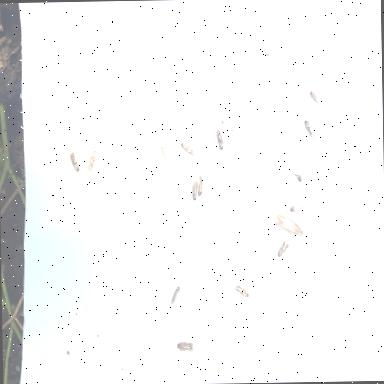pbw: (234, 282, 254, 303), (158, 146, 176, 164), (195, 169, 206, 197), (177, 339, 196, 355), (86, 150, 98, 175), (170, 286, 182, 310), (304, 118, 316, 142), (310, 90, 324, 108), (276, 241, 290, 259), (181, 142, 196, 158), (216, 129, 226, 151), (192, 178, 200, 203), (290, 202, 308, 212), (72, 152, 80, 173)
